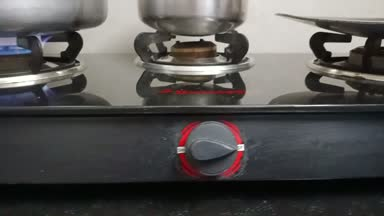flame_gas_off: (151, 30, 251, 176)
flame_gas_on: (0, 34, 86, 89)
